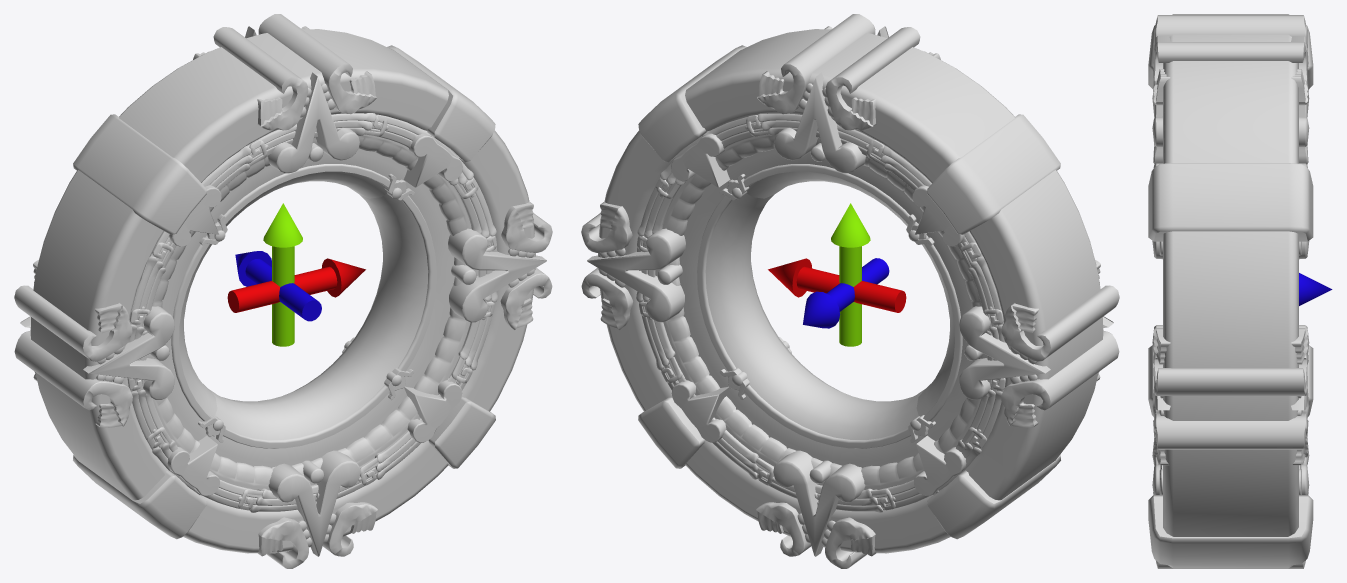
File: Aztec_Circle.fbx
The picture shows the model from 3 angles, left to right: view 1: azimuth 30°, elevation 25°; view 2: azimuth 150°, elevation 25°; view 3: azimuth 270°, elevation 25°; orthographic projection. The views are drawn at different scales.
Parts seen in each view (by area): view 1: Aztec_Circle, Gimbal; view 2: Aztec_Circle, Gimbal; view 3: Aztec_Circle, Gimbal.
Boxes of the visible parts, left/top/right/bottom form: Aztec_Circle: left=14, top=14, right=552, bottom=568; Gimbal: left=227, top=203, right=365, bottom=346; Aztec_Circle: left=581, top=14, right=1119, bottom=568; Gimbal: left=768, top=203, right=906, bottom=346; Aztec_Circle: left=1148, top=14, right=1313, bottom=568; Gimbal: left=1299, top=273, right=1332, bottom=305.
Size of the model in its own units: 18.01 by 18.04 by 5.76.
